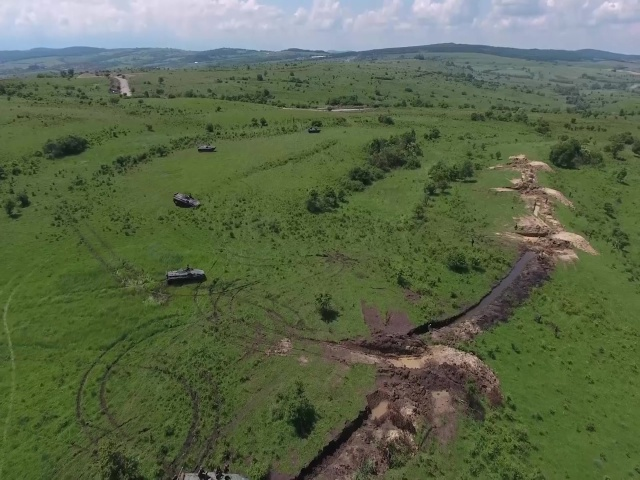vehicle: (165, 266, 205, 283), (171, 191, 200, 209), (196, 142, 218, 152), (308, 127, 321, 134)
